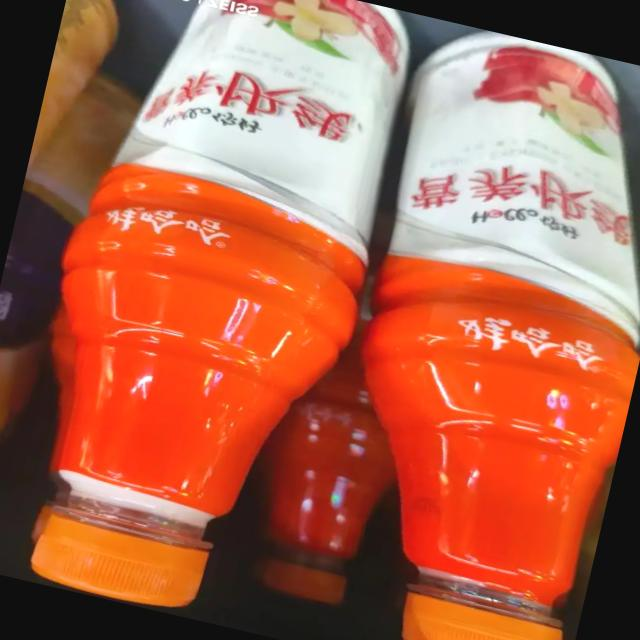bottle: (0, 0, 430, 640), (282, 16, 640, 640), (0, 0, 139, 363), (232, 350, 418, 614)
